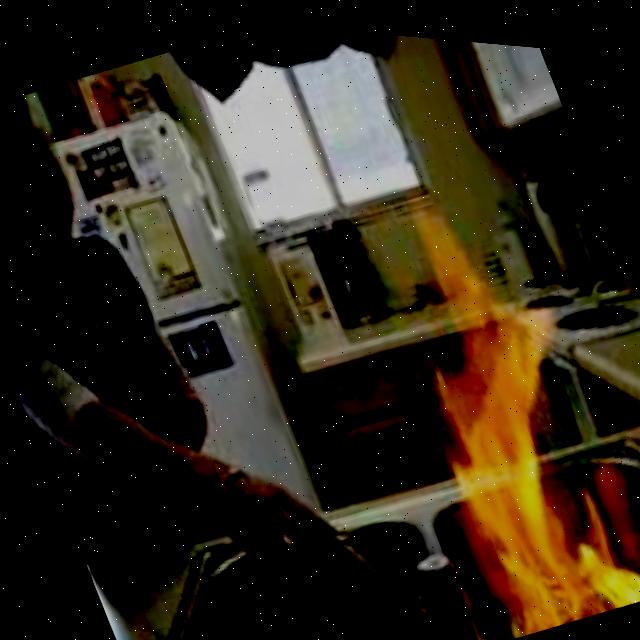Fire: (357, 180, 640, 638)
